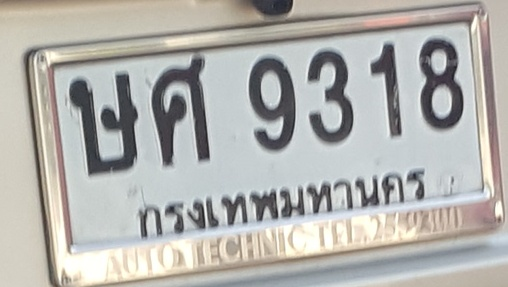txt33: (146, 53, 216, 169)
txt34: (66, 70, 141, 179)
